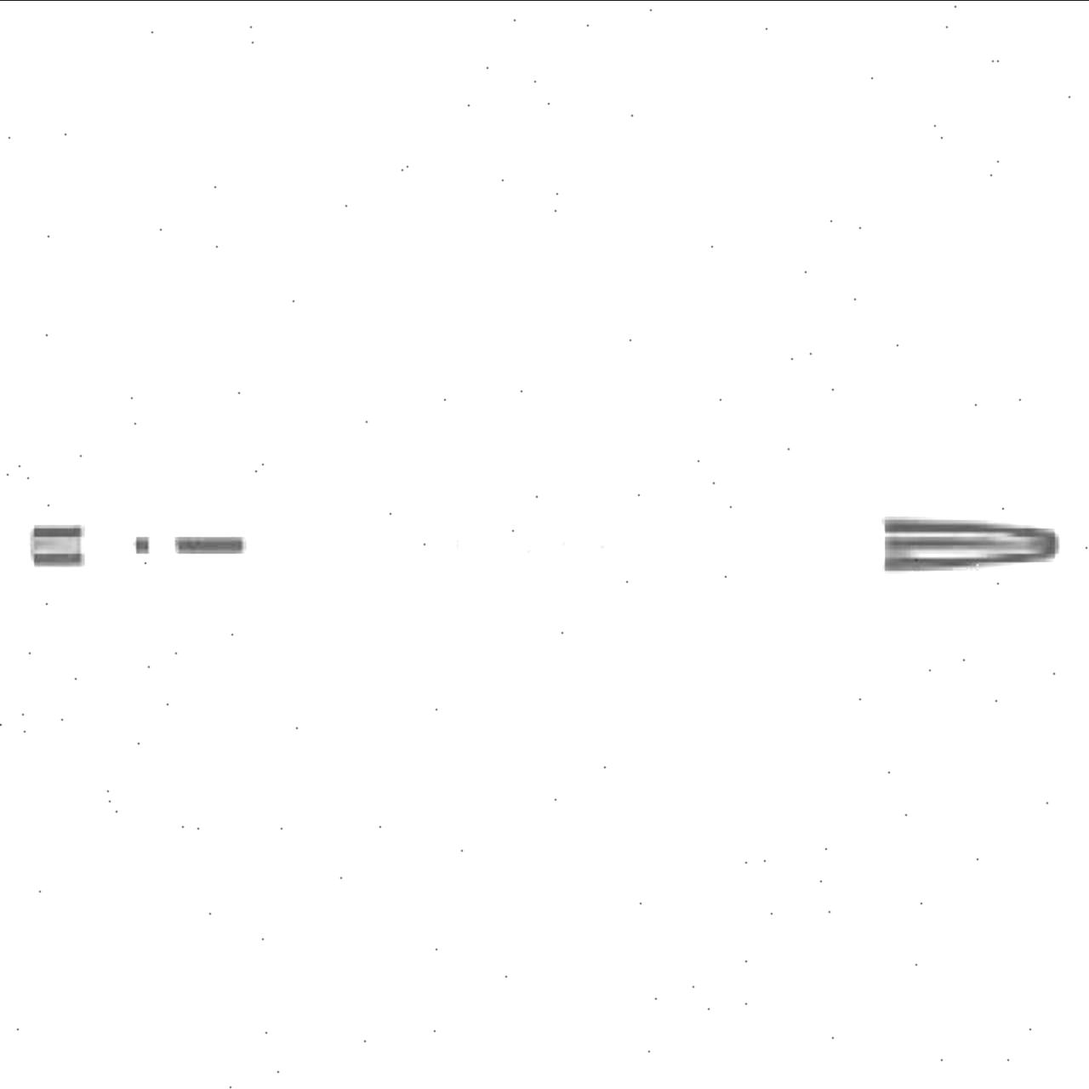pen: (26, 497, 1060, 587)
